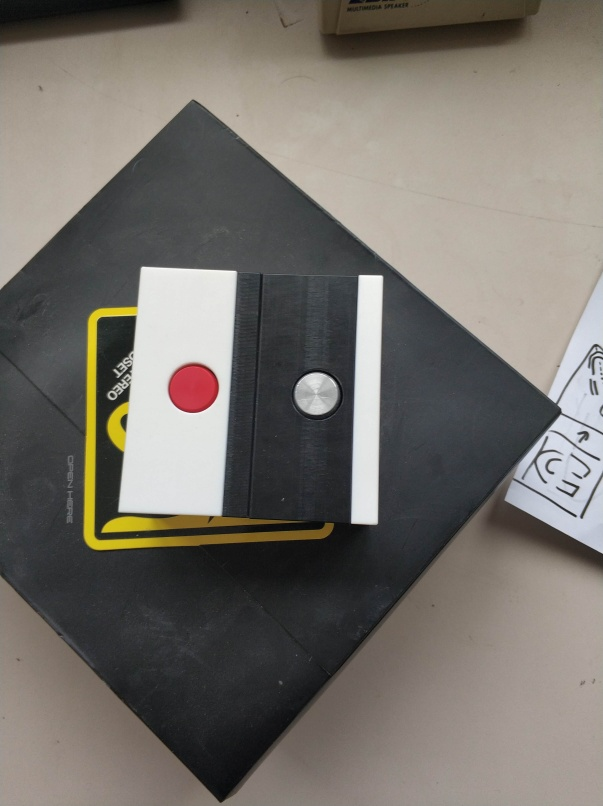black+white+red: (115, 261, 263, 521)
white+black+silver: (258, 270, 388, 527)
